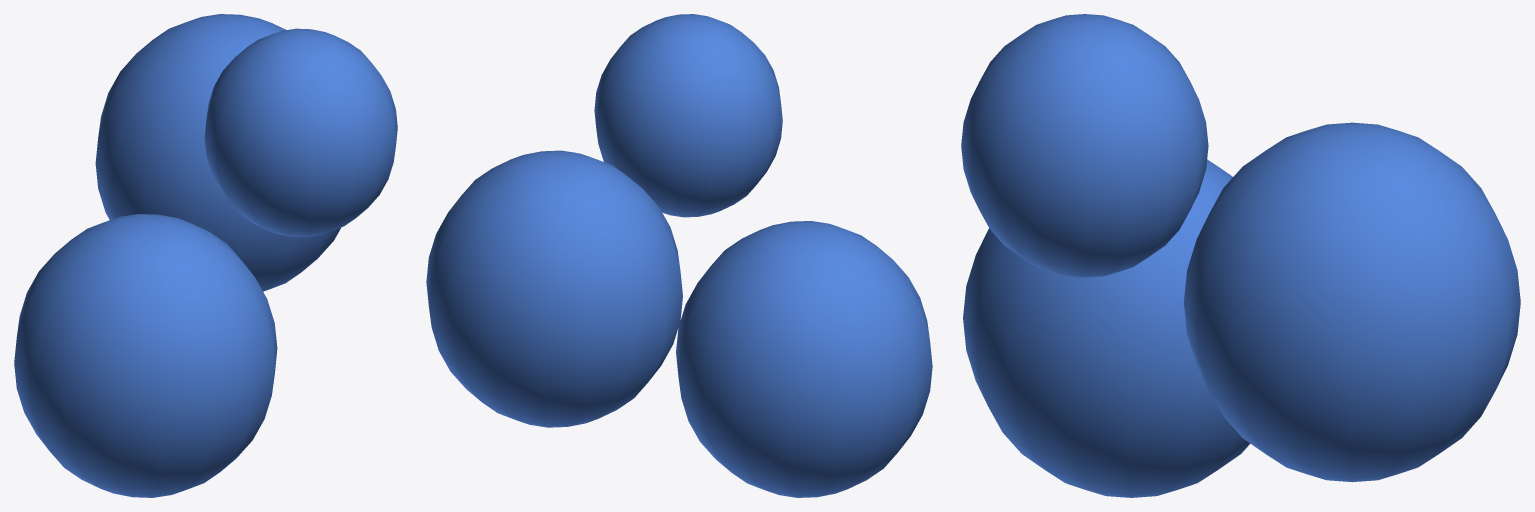
The model's file is berry.fbx.
The picture shows the model from 3 angles, left to right: view 1: azimuth 30°, elevation 25°; view 2: azimuth 150°, elevation 25°; view 3: azimuth 270°, elevation 25°; orthographic projection. The views are drawn at different scales.
Visible parts, largest first — view 1: PolySphere:pSphere1, PolySphere:pSphere3, PolySphere:pSphere2; view 2: PolySphere:pSphere2, PolySphere:pSphere1, PolySphere:pSphere3; view 3: PolySphere:pSphere2, PolySphere:pSphere1, PolySphere:pSphere3.
Boxes of the visible parts, x1,y1,x2,y2 form: PolySphere:pSphere1: [14, 214, 277, 497]; PolySphere:pSphere3: [204, 28, 397, 237]; PolySphere:pSphere2: [95, 14, 340, 291]; PolySphere:pSphere2: [426, 150, 682, 427]; PolySphere:pSphere1: [676, 221, 932, 497]; PolySphere:pSphere3: [594, 14, 782, 217]; PolySphere:pSphere2: [1184, 122, 1520, 482]; PolySphere:pSphere1: [963, 159, 1250, 497]; PolySphere:pSphere3: [961, 14, 1208, 277].
Bounding box in the file's own units: 33.11 × 34.03 × 31.76.
